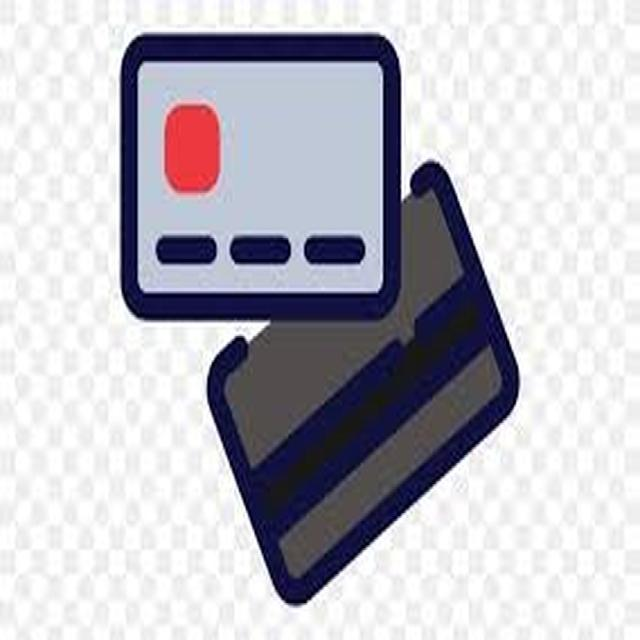card: (197, 139, 526, 619), (106, 15, 406, 329)
